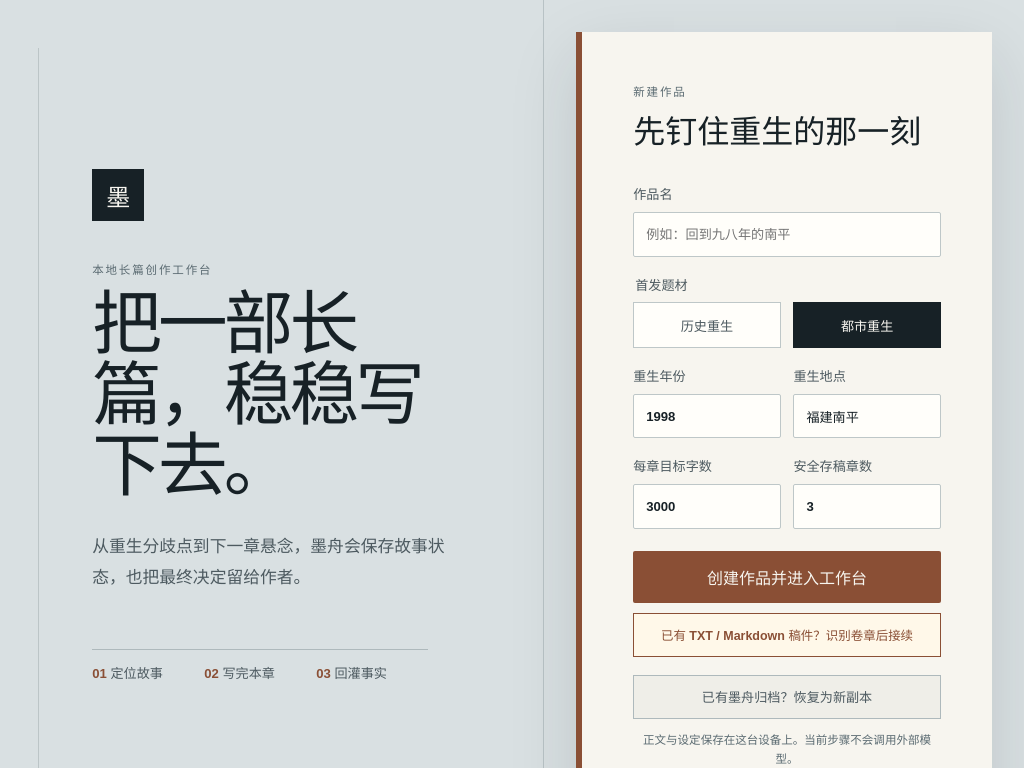
Scenario: App › opens and closes the AI director from the narrow-window entry point
Type "回到九八年的南平" into the field labelled "作品名" at {"x": 787, "y": 235}, box x1=633 y1=212 x2=941 y2=257
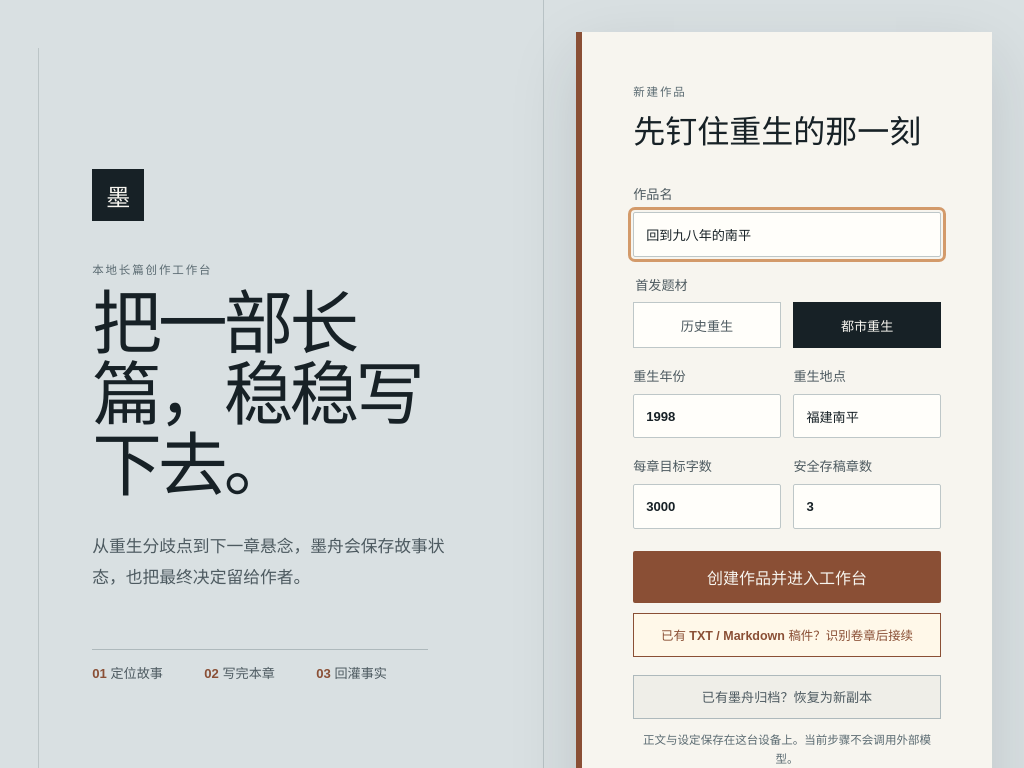
Click the button "创建作品并进入工作台" at {"x": 787, "y": 577}, box x1=633 y1=551 x2=941 y2=603
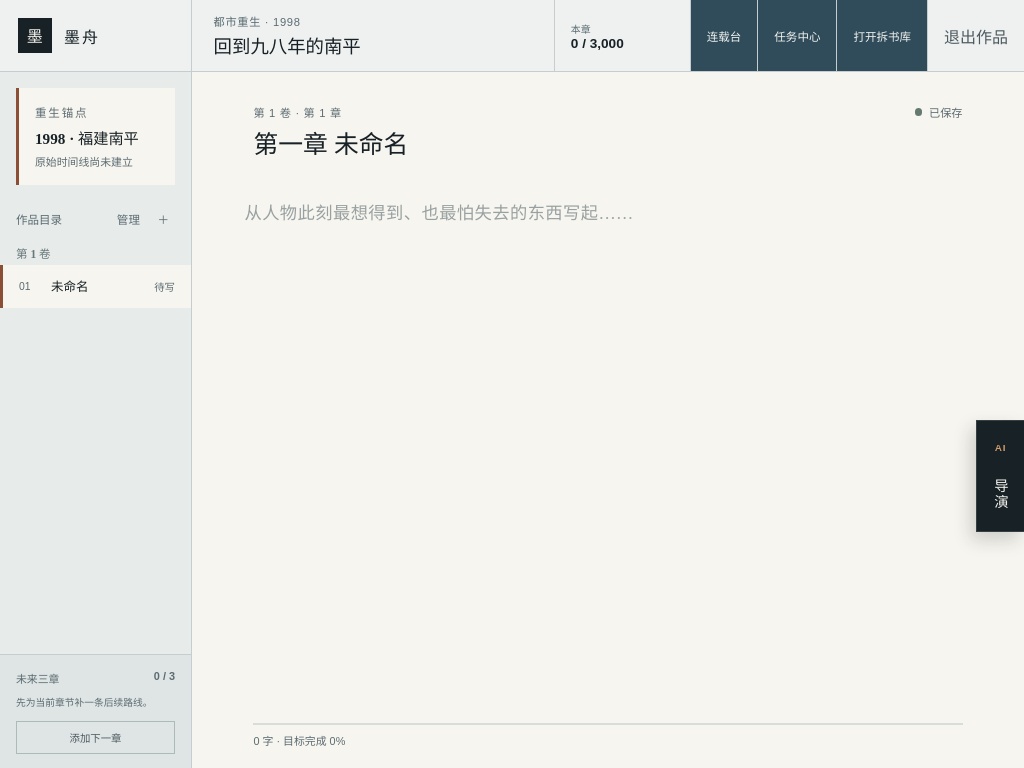
Click the button with aria-label "打开 AI 导演" at {"x": 1000, "y": 476}, box x1=976 y1=420 x2=1023 y2=532
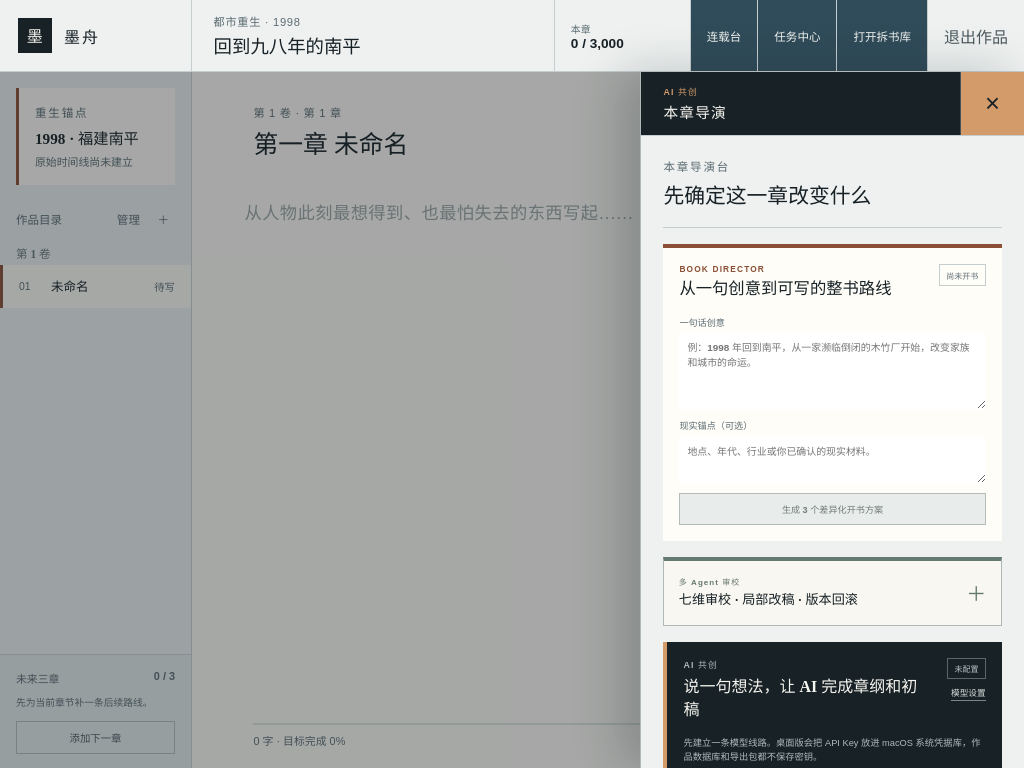
expect the button with aria-label "打开 AI 导演" is expanded: met, box x1=976 y1=420 x2=1023 y2=532
Press Escape
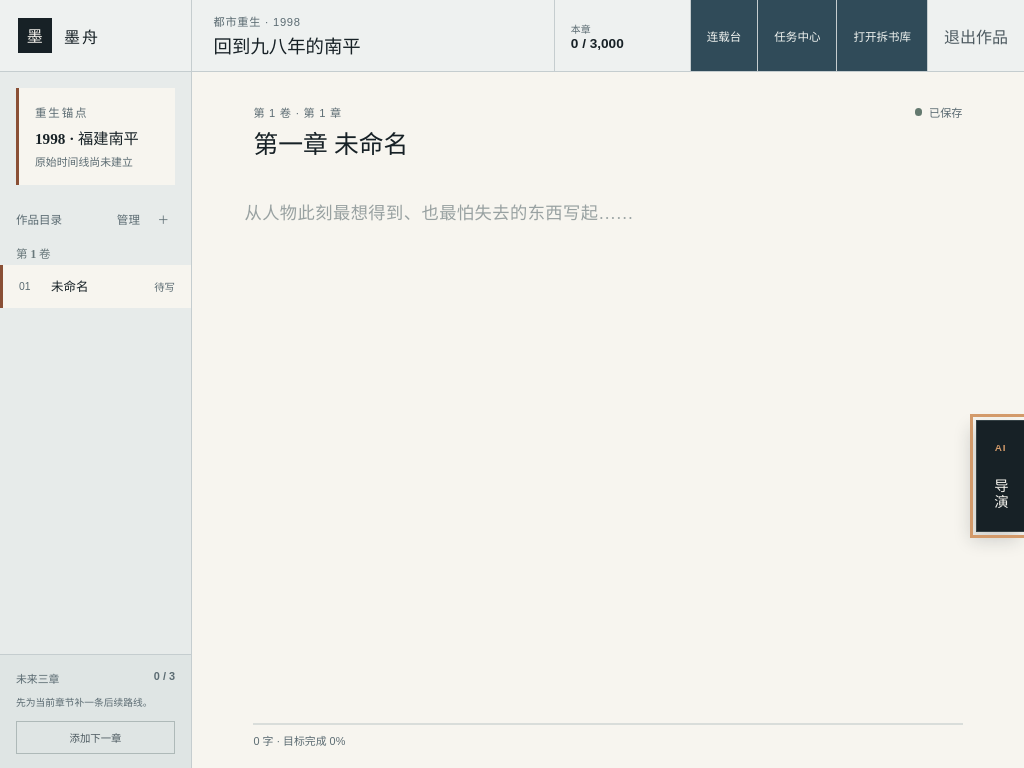
expect the button with aria-label "打开 AI 导演" is collapsed: met, box x1=976 y1=420 x2=1023 y2=532
